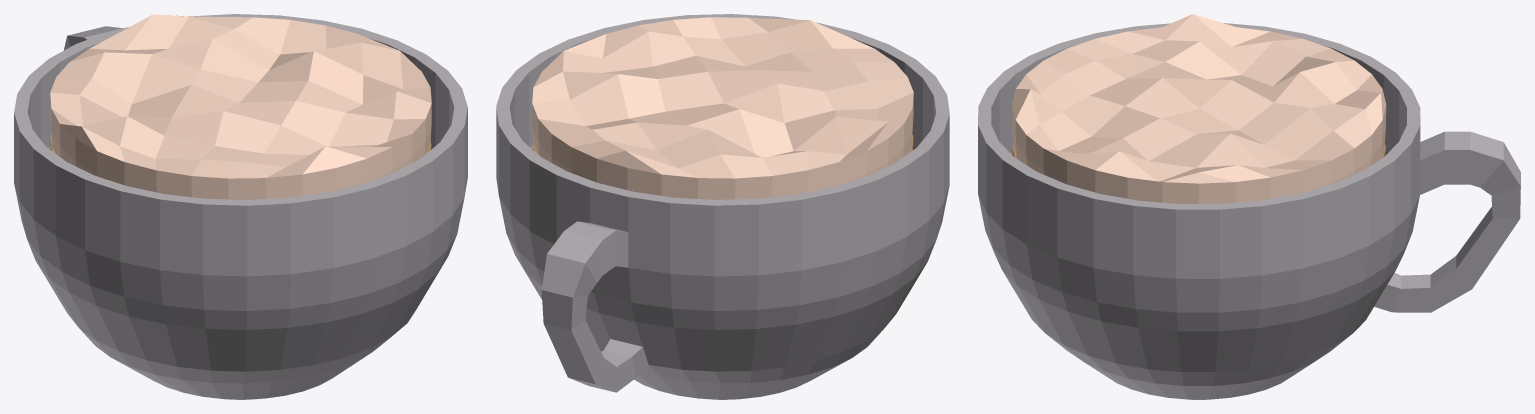
The model's file is LatteV1.glb.
The picture shows the model from 3 angles, left to right: view 1: azimuth 30°, elevation 25°; view 2: azimuth 150°, elevation 25°; view 3: azimuth 270°, elevation 25°; orthographic projection. The views are drawn at different scales.
Parts seen in each view (by area): view 1: Cup_Body, Liquid_Foam; view 2: Cup_Body, Liquid_Foam; view 3: Cup_Body, Liquid_Foam.
Boxes of the visible parts, left/top/right/bottom form: Cup_Body: left=14, top=14, right=467, bottom=399; Liquid_Foam: left=50, top=14, right=431, bottom=199; Cup_Body: left=496, top=14, right=949, bottom=399; Liquid_Foam: left=532, top=17, right=913, bottom=199; Cup_Body: left=978, top=23, right=1520, bottom=399; Liquid_Foam: left=1012, top=14, right=1386, bottom=203.
Bounding box in the file's own units: 1.99 × 1.43 × 2.44.
